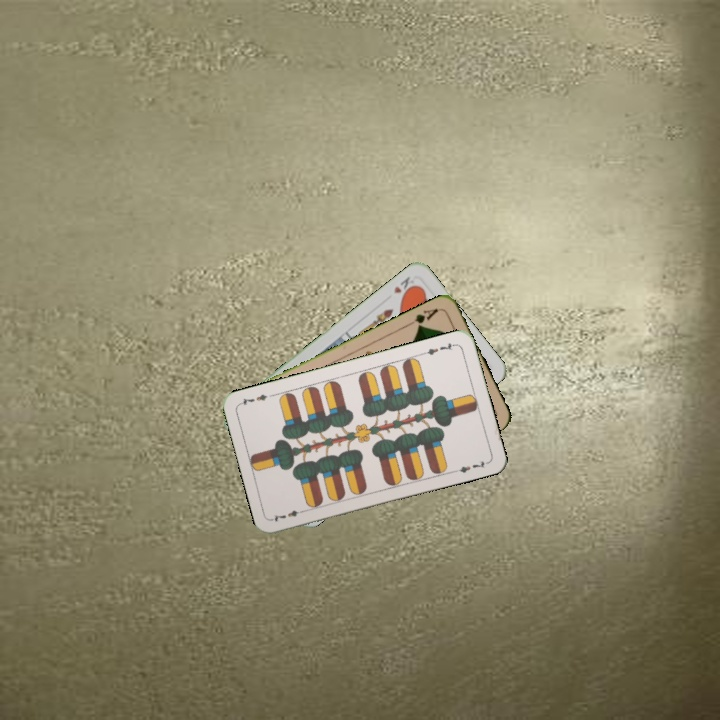E7: (419, 339, 459, 358), (269, 505, 308, 524)
GA: (404, 304, 442, 331)
HK: (389, 272, 419, 300)
